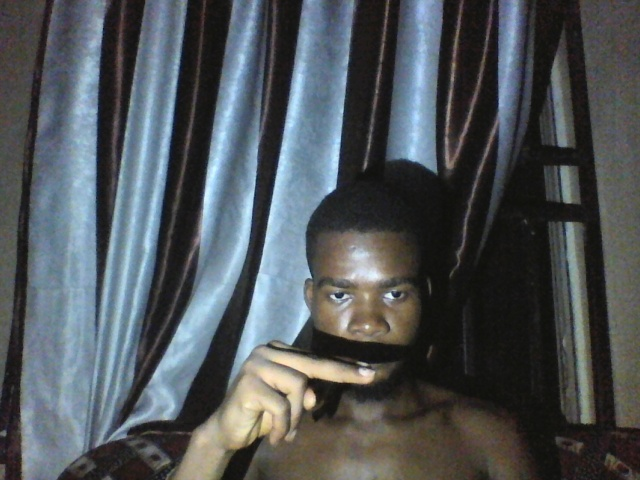no: (227, 330, 376, 454)
